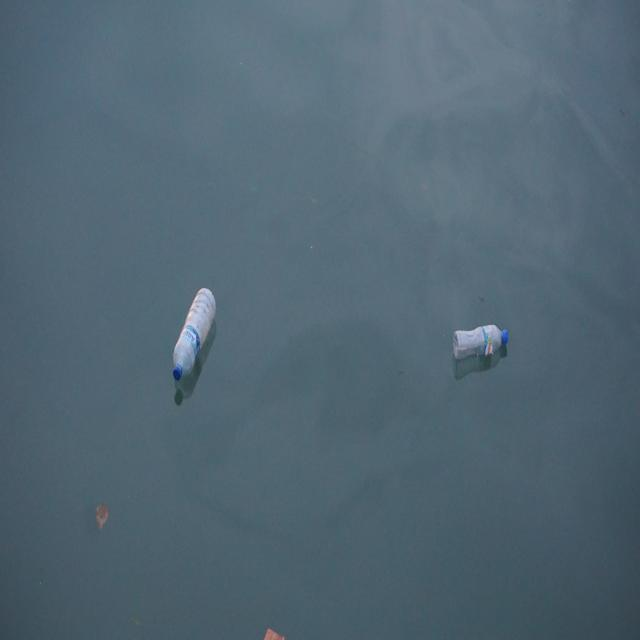Botol Plastik: (169, 284, 220, 389), (449, 314, 515, 376)
